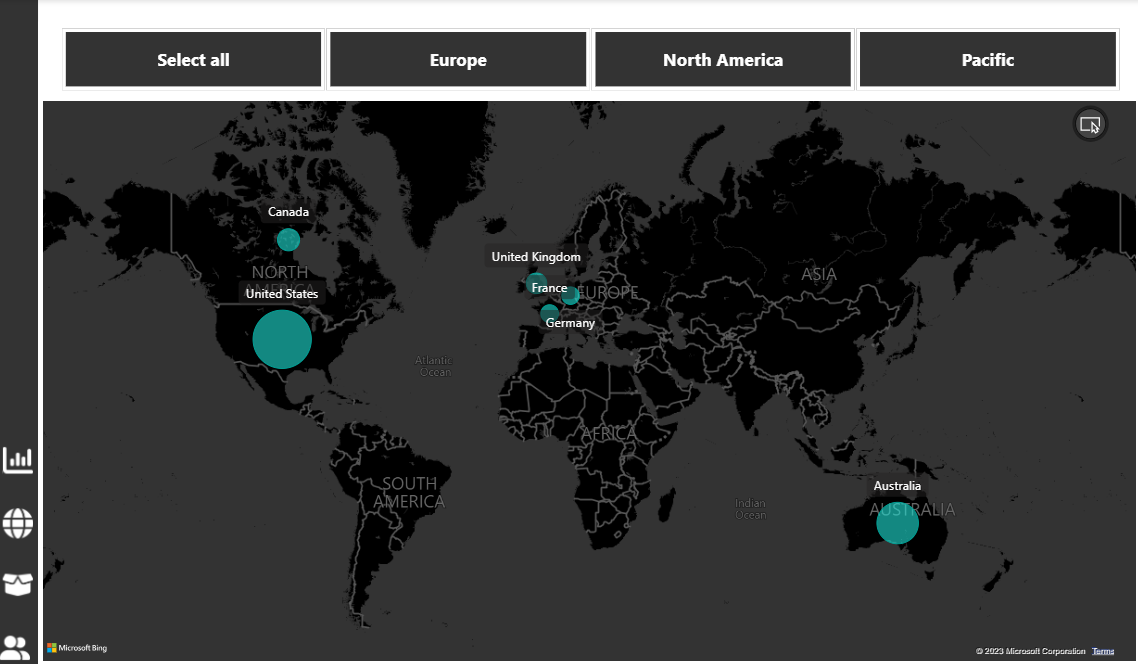

What the dashboard file says about the page in this screenshot:
{"tool":"powerbi","page":{"name":"Map","canvas":[1280,720],"ordinal":1},"visuals":[{"type":"shape","box":[0,0,45,720.4],"z":0},{"type":"actionButton","box":[3.8,477.3,45.3,40.4],"z":0,"group":"g1"},{"type":"actionButton","box":[3.8,544.7,45.3,40.4],"z":1000,"group":"g1"},{"type":"map","fields":{"Category":["Territory Lookup.Country"],"Size":["Measure Table.Total Orders"]},"box":[45.4,105.8,1190.6,614.2],"z":1000},{"type":"slicer","fields":{"Values":["Territory Lookup.Continent"]},"box":[45.4,24.6,1190.6,81.3],"z":2000},{"type":"actionButton","box":[3.8,612.1,45.3,40.4],"z":2000,"group":"g1"},{"type":"actionButton","box":[0,679.5,76,40.4],"z":3000,"group":"g1"},{"type":"group","id":"g1","title":"Navigation Buttons","box":[0,477.3,76,242.7],"z":3000}]}

Visuals, with their boxes on the page's 1280x720 design canvas (x1, y1, x2, y2). These are canvas units, not pixel positions in the 1138x664 screenshot, which may show the page scaled, cropped or inside an application window:
shape: 0, 0, 45, 720
actionButton: 4, 477, 49, 518
actionButton: 4, 545, 49, 585
map - Territory Lookup.Country x Measure Table.Total Orders: 45, 106, 1236, 720
slicer - Territory Lookup.Continent: 45, 25, 1236, 106
actionButton: 4, 612, 49, 652
actionButton: 0, 680, 76, 720
"Navigation Buttons" group: 0, 477, 76, 720
